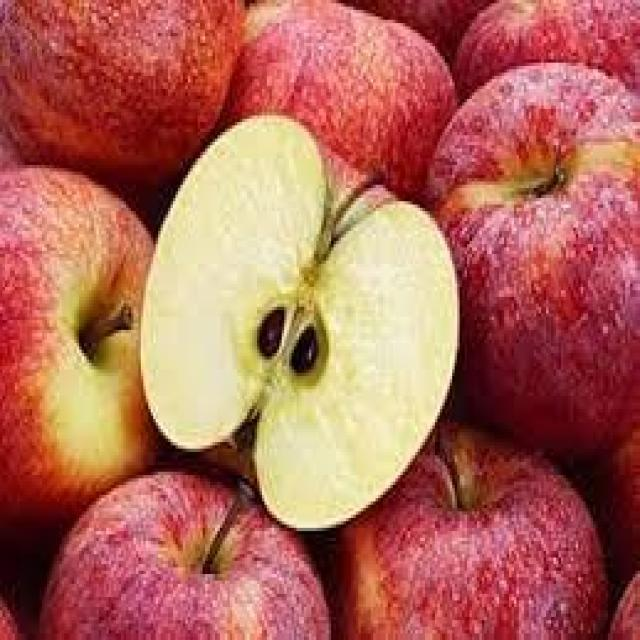maca: (0, 0, 638, 637), (138, 109, 460, 531)
